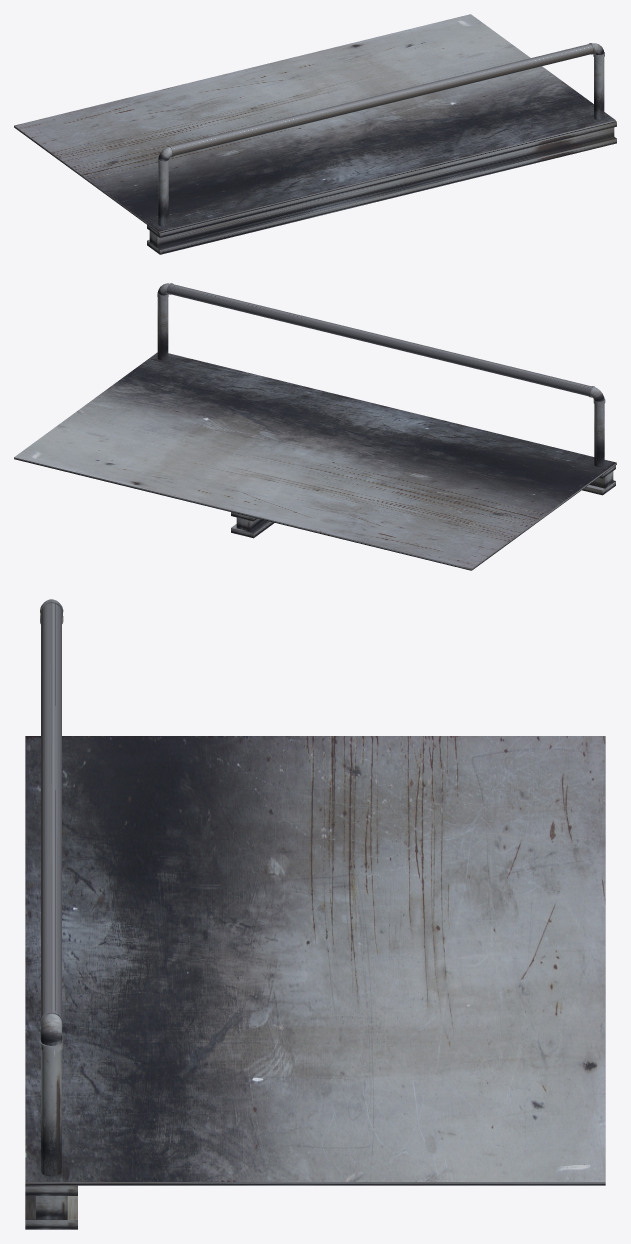
The model's file is catwalk_middle_fix_2.FBX.
3 views of the same model, one above another, from view 1: azimuth 30°, elevation 25°; view 2: azimuth 150°, elevation 25°; view 3: azimuth 270°, elevation 25° (orthographic). The views are drawn at different scales.
Parts seen in each view (by area): view 1: Box019, Cylinder005, Box002, Box001, Box003, Cylinder006, Cylinder007; view 2: Box019, Cylinder005, Cylinder006, Cylinder007; view 3: Box019, Cylinder005, Cylinder002, Box001.
Boxes of the visible parts, x1,y1,x2,y2 form: Box019: [14, 14, 615, 233]; Cylinder005: [167, 43, 604, 157]; Box002: [149, 127, 614, 247]; Box001: [147, 136, 616, 254]; Box003: [147, 121, 616, 237]; Cylinder006: [157, 158, 169, 226]; Cylinder007: [593, 52, 604, 120]; Box019: [14, 352, 616, 570]; Cylinder005: [158, 283, 594, 397]; Cylinder006: [593, 398, 605, 466]; Cylinder007: [157, 292, 168, 360]; Box019: [25, 736, 605, 1185]; Cylinder005: [40, 600, 63, 1045]; Cylinder002: [41, 1042, 61, 1176]; Box001: [25, 1196, 77, 1229].
Size of the model in its own units: 10.02 by 2.08 by 5.5.
Materials: 1 (1 with a texture image).
